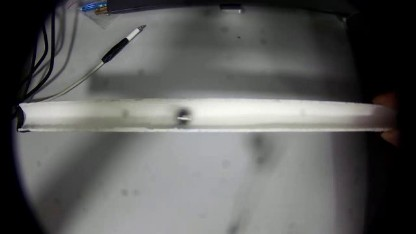gangzhu: (172, 107, 191, 123)
